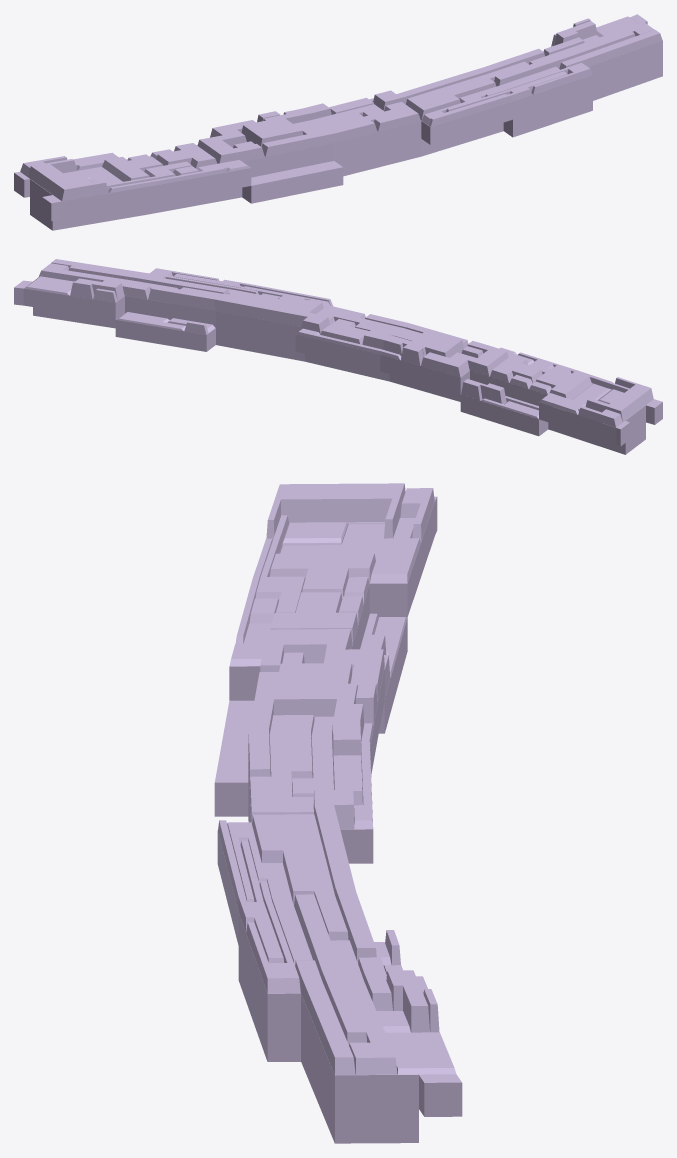
File: ParedBottom.fbx
3 views of the same model, one above another, from view 1: azimuth 30°, elevation 25°; view 2: azimuth 150°, elevation 25°; view 3: azimuth 270°, elevation 25° (orthographic). The views are drawn at different scales.
Visible parts, largest first — view 1: ParedNueva.003; view 2: ParedNueva.003; view 3: ParedNueva.003.
Boxes of the visible parts, x1,y1,x2,y2 form: ParedNueva.003: (14,14,662,230); ParedNueva.003: (14,259,662,454); ParedNueva.003: (214,483,462,1143).
Bounding box in the file's own units: 81.28 × 6.11 × 14.42.
